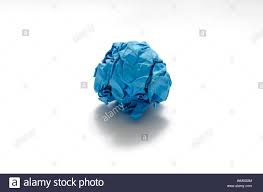crumpled paper: (93, 37, 177, 119)
